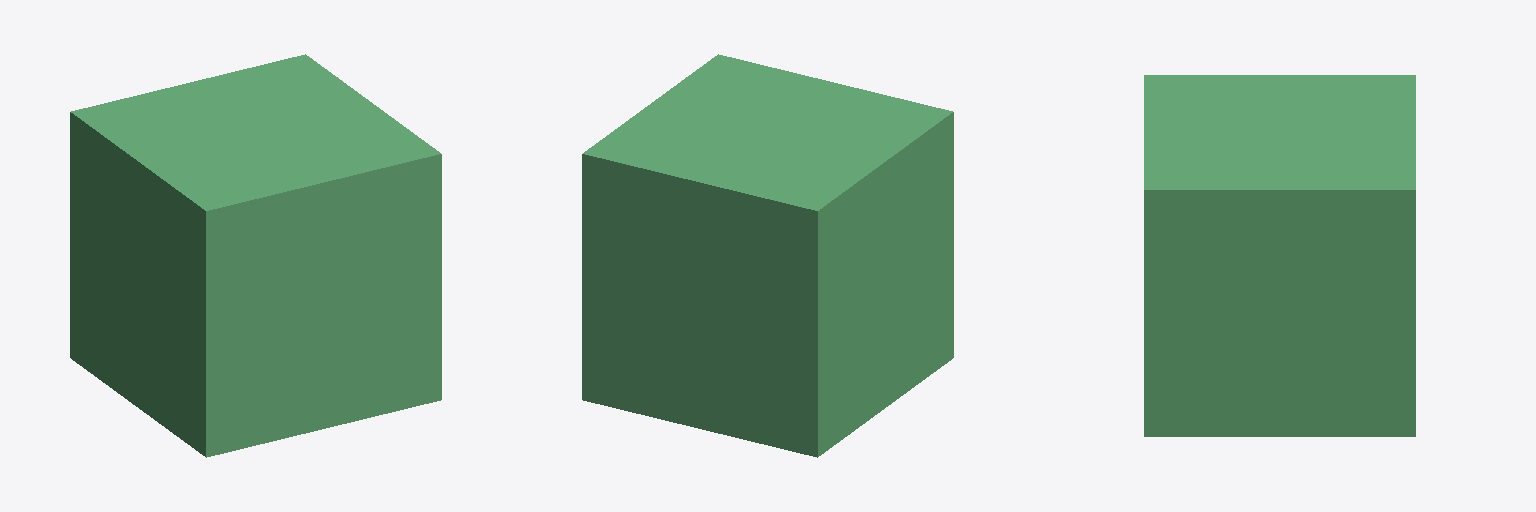
3 views of the same model, side by side, from view 1: azimuth 30°, elevation 25°; view 2: azimuth 150°, elevation 25°; view 3: azimuth 270°, elevation 25° (orthographic).
Parts seen in each view (by area): view 1: Cube; view 2: Cube; view 3: Cube.
Boxes of the visible parts, x1=… form: Cube: x1=70, y1=54, x2=441, y2=457; Cube: x1=582, y1=54, x2=953, y2=457; Cube: x1=1144, y1=75, x2=1415, y2=436.
Size of the model in its own units: 2 by 2 by 2.
1 materials, 1 textured.